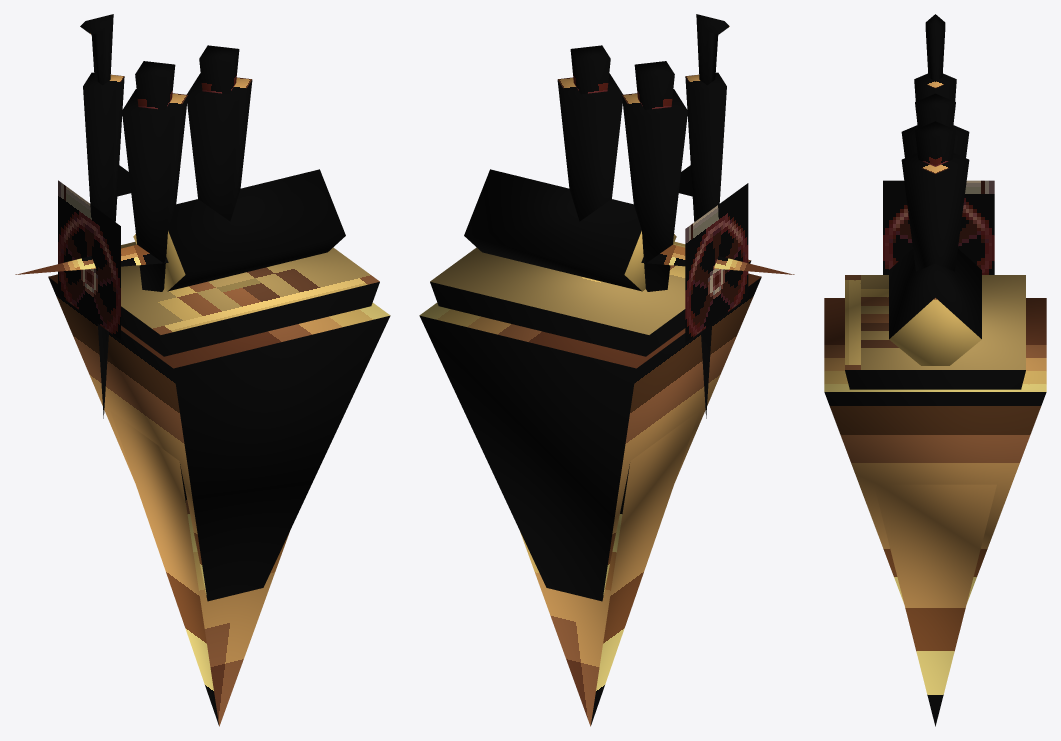
The picture shows the model from 3 angles, left to right: view 1: azimuth 30°, elevation 25°; view 2: azimuth 150°, elevation 25°; view 3: azimuth 270°, elevation 25°; orthographic projection. The views are drawn at different scales.
Visible parts, largest first — view 1: 3289IMIG06_03; view 2: 3289IMIG06_03; view 3: 3289IMIG06_03.
Boxes of the visible parts, box(x1,y1,x2,y2) form: 3289IMIG06_03: box(15, 14, 390, 726); 3289IMIG06_03: box(419, 14, 794, 726); 3289IMIG06_03: box(824, 14, 1046, 726).
Size of the model in its own units: 1.24 by 2.79 by 0.8579.
Materials: 3 (3 with a texture image).
